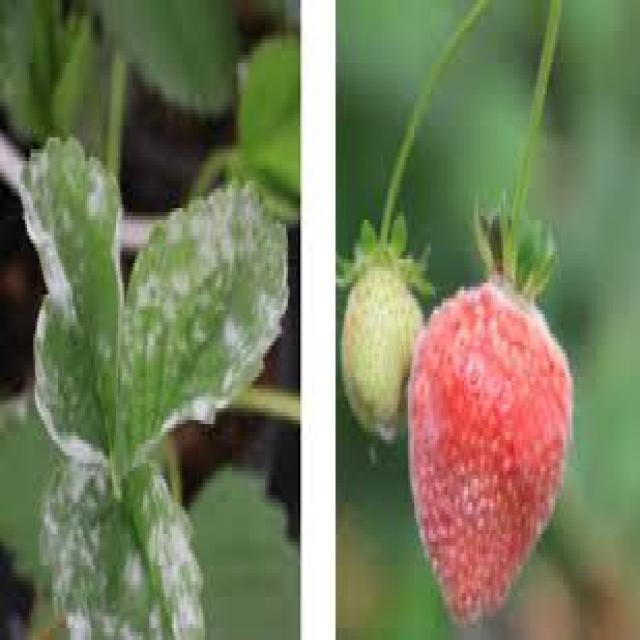Oído: (408, 278, 576, 630)
